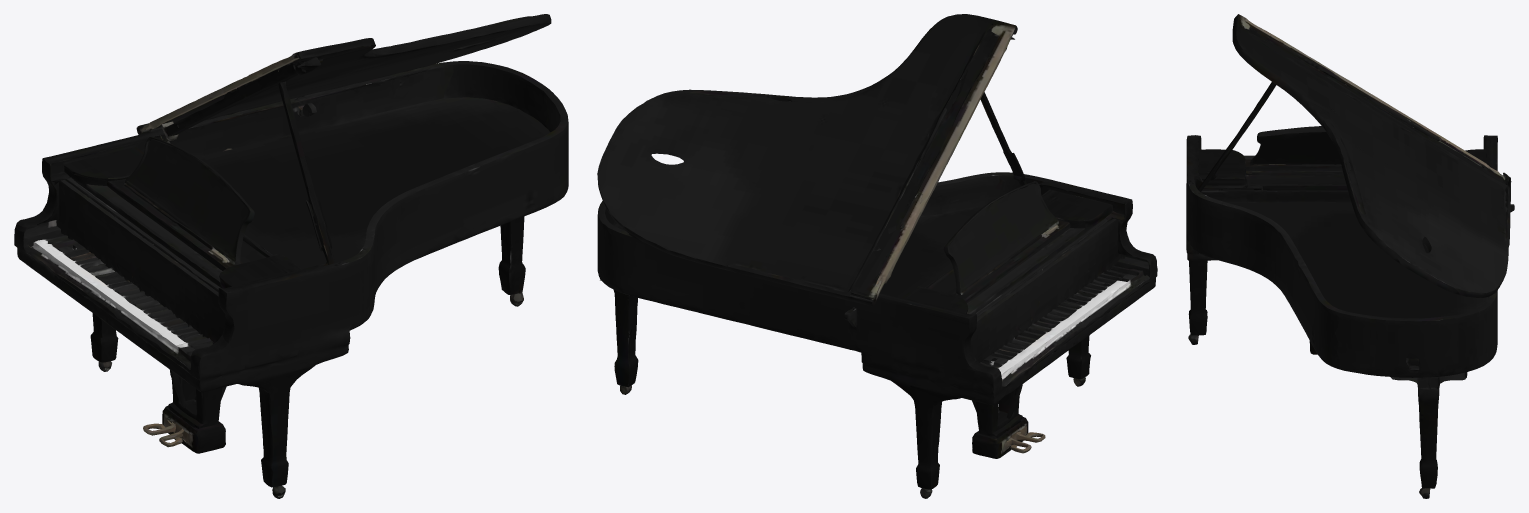
The model's file is grand-piano-trellis.glb.
3 renders of one model, left to right at view 1: azimuth 30°, elevation 25°; view 2: azimuth 150°, elevation 25°; view 3: azimuth 270°, elevation 25°, orthographic. The views are drawn at different scales.
Parts seen in each view (by area): view 1: outer_case, lid, keyboard_assembly, music_desk, rear_leg, pedal_assembly, right_front_leg, left_front_leg; view 2: lid, outer_case, keyboard_assembly, music_desk, left_front_leg, rear_leg, pedal_assembly, right_front_leg; view 3: lid, outer_case, music_desk, rear_leg, right_front_leg.
Boxes of the visible parts, <box> form: outer_case: <box>14,70,568,494</box>; lid: <box>42,14,568,299</box>; keyboard_assembly: <box>19,206,221,381</box>; music_desk: <box>224,172,357,268</box>; rear_leg: <box>498,216,525,306</box>; pedal_assembly: <box>166,376,226,429</box>; right_front_leg: <box>259,387,287,498</box>; left_front_leg: <box>90,313,118,371</box>; lid: <box>597,14,1132,324</box>; outer_case: <box>597,180,1157,458</box>; keyboard_assembly: <box>970,247,1144,401</box>; music_desk: <box>880,218,964,297</box>; left_front_leg: <box>863,369,956,498</box>; rear_leg: <box>613,290,638,394</box>; pedal_assembly: <box>972,390,1023,458</box>; right_front_leg: <box>1066,335,1090,386</box>; lid: <box>1186,14,1511,325</box>; outer_case: <box>1186,141,1514,388</box>; music_desk: <box>1256,184,1366,234</box>; rear_leg: <box>1417,381,1439,498</box>; right_front_leg: <box>1190,260,1217,344</box>.
Size of the model in its own units: 0.4 by 0.3344 by 0.2823.
Materials: 1 (1 with a texture image).
